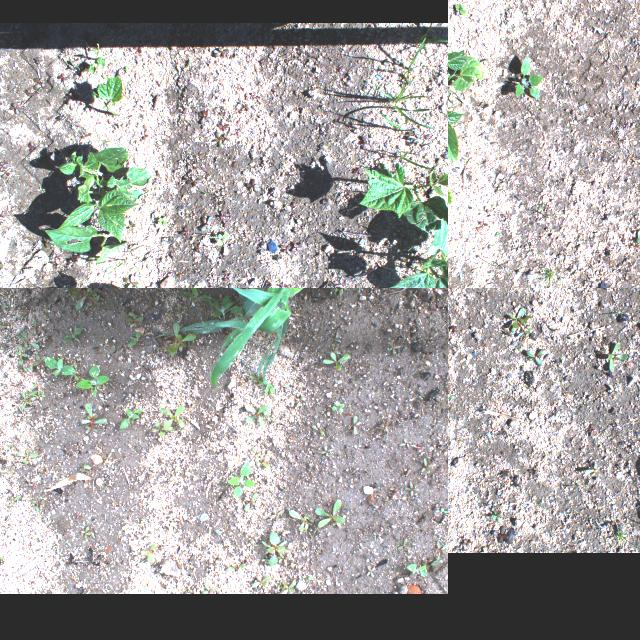crop: (153, 288, 315, 389), (60, 150, 154, 240), (359, 161, 448, 233), (387, 206, 448, 288), (42, 224, 126, 266), (448, 46, 484, 93), (90, 75, 122, 115), (448, 90, 465, 163)
weed: (370, 77, 436, 131), (402, 24, 448, 75), (514, 56, 544, 98), (166, 320, 198, 358), (76, 364, 110, 398), (226, 460, 256, 498), (372, 108, 411, 134), (260, 533, 286, 567), (526, 264, 562, 288), (208, 294, 242, 318), (316, 500, 344, 528), (80, 44, 106, 74), (614, 519, 638, 549), (604, 341, 628, 371), (65, 288, 102, 307), (395, 152, 431, 170), (247, 404, 275, 426), (322, 351, 351, 372), (44, 357, 74, 377), (80, 402, 108, 423), (158, 405, 184, 427), (288, 511, 314, 532), (118, 408, 142, 430), (509, 308, 531, 332), (175, 288, 213, 301), (429, 540, 446, 566), (15, 330, 39, 348), (525, 348, 545, 366), (15, 449, 38, 463), (215, 205, 231, 225), (123, 310, 143, 326), (62, 326, 82, 342), (140, 543, 156, 563), (406, 562, 426, 578), (243, 492, 259, 512), (152, 422, 172, 438), (194, 215, 210, 233), (28, 495, 44, 513), (492, 526, 508, 544), (238, 181, 258, 195), (448, 70, 455, 108), (402, 481, 418, 497), (28, 383, 44, 399), (210, 232, 228, 246), (251, 576, 271, 588), (128, 331, 142, 347), (280, 580, 296, 594), (420, 458, 434, 474), (386, 340, 400, 356), (15, 344, 25, 366), (184, 176, 202, 188), (121, 275, 136, 288), (198, 582, 214, 594), (268, 508, 284, 520), (248, 373, 264, 385), (0, 160, 10, 177), (246, 538, 258, 552), (260, 382, 274, 394), (8, 494, 20, 508), (584, 462, 596, 476), (606, 382, 618, 396), (308, 425, 324, 435), (224, 563, 244, 571), (330, 401, 344, 412), (20, 392, 28, 411), (191, 242, 203, 254), (278, 244, 290, 256), (632, 230, 640, 248), (250, 444, 258, 462), (396, 539, 408, 551), (610, 309, 628, 317), (222, 132, 232, 146), (330, 288, 350, 295), (321, 446, 334, 456), (273, 383, 289, 391), (492, 510, 501, 524), (217, 120, 229, 130), (221, 274, 233, 284), (291, 242, 303, 252), (454, 3, 464, 15), (352, 414, 358, 434), (398, 438, 410, 448), (586, 424, 596, 436), (78, 463, 92, 471), (83, 526, 91, 540), (83, 425, 97, 433), (156, 216, 166, 226), (462, 539, 472, 549), (366, 566, 374, 578), (296, 394, 304, 406), (454, 544, 466, 552), (438, 508, 448, 516), (518, 330, 530, 336), (221, 284, 238, 288), (32, 318, 36, 334), (73, 373, 79, 382), (0, 303, 5, 313), (304, 576, 312, 582), (213, 528, 219, 536), (34, 354, 38, 366), (512, 348, 522, 352), (262, 463, 268, 469), (448, 393, 454, 399), (494, 232, 501, 236), (538, 501, 542, 507), (66, 542, 70, 546), (0, 557, 2, 564)
